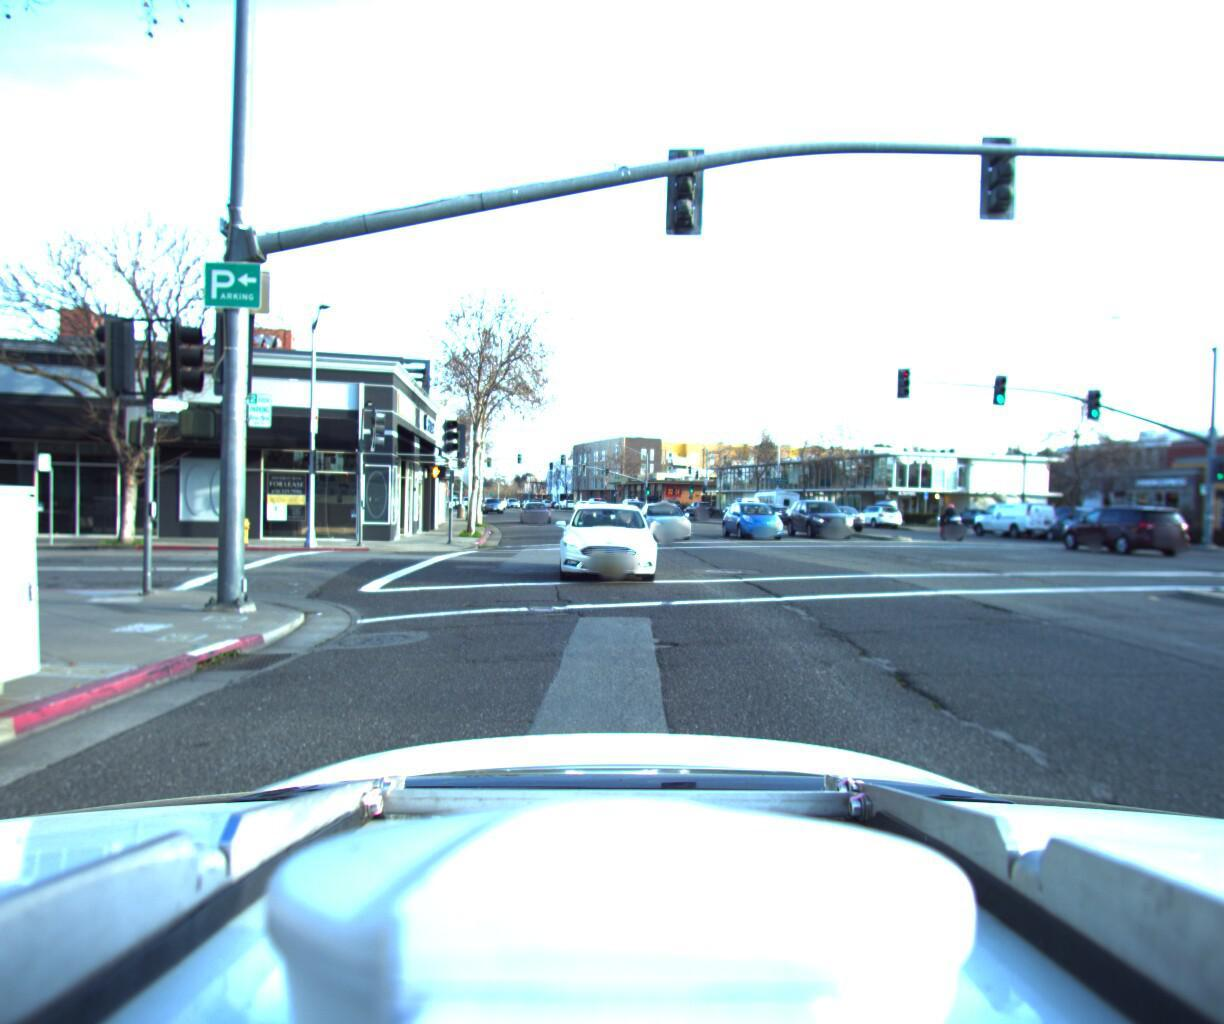bus: (748, 482, 802, 515)
car: (555, 498, 661, 589), (1042, 496, 1178, 553), (968, 493, 1060, 532), (781, 489, 858, 531), (726, 496, 796, 538), (638, 498, 703, 540), (805, 495, 866, 525), (850, 491, 904, 522), (945, 499, 1008, 521), (715, 490, 755, 514), (516, 497, 550, 523)
motorcycle: (919, 495, 961, 533)
